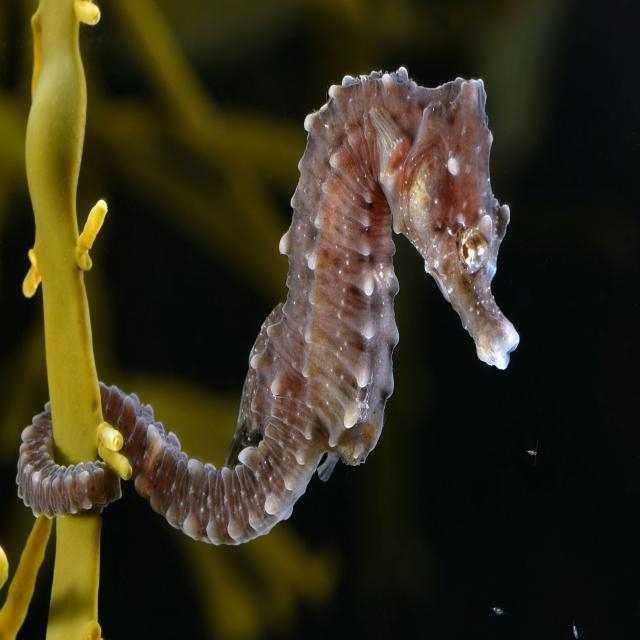seahorse: (100, 68, 519, 544)
